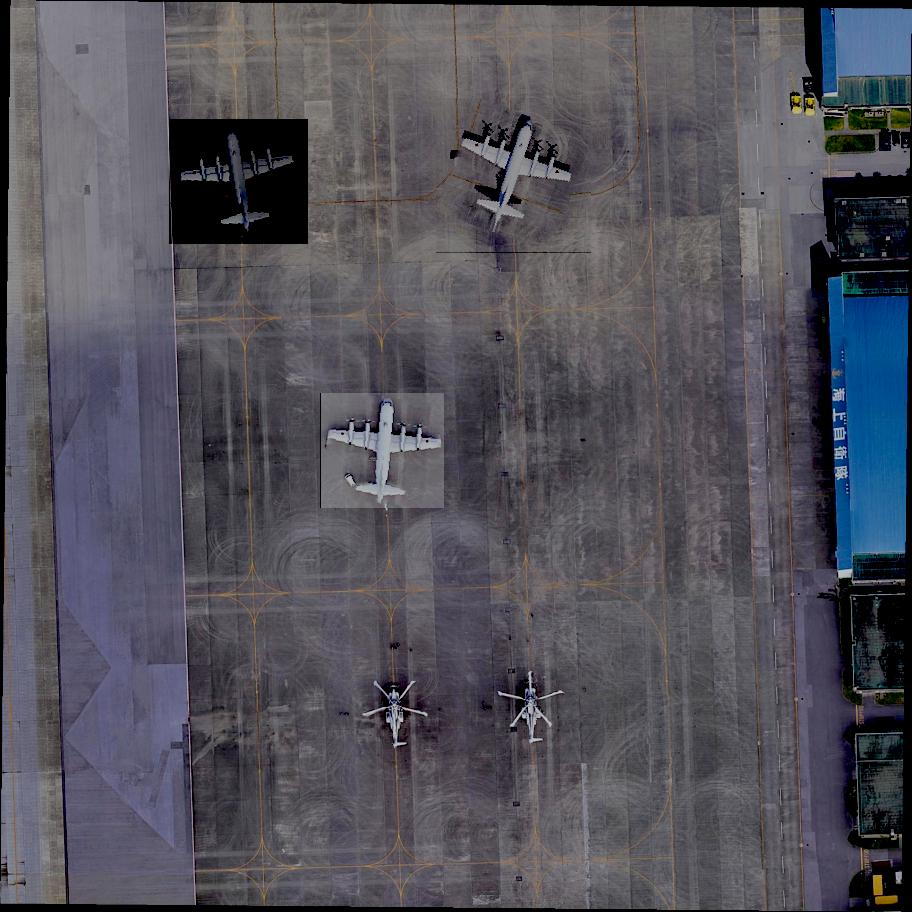large-vehicle: (880, 132, 892, 152), (892, 131, 900, 144)
plane: (437, 99, 594, 254), (169, 120, 308, 245), (321, 393, 446, 509)
small-vehicle: (347, 476, 364, 494), (901, 132, 910, 149)
